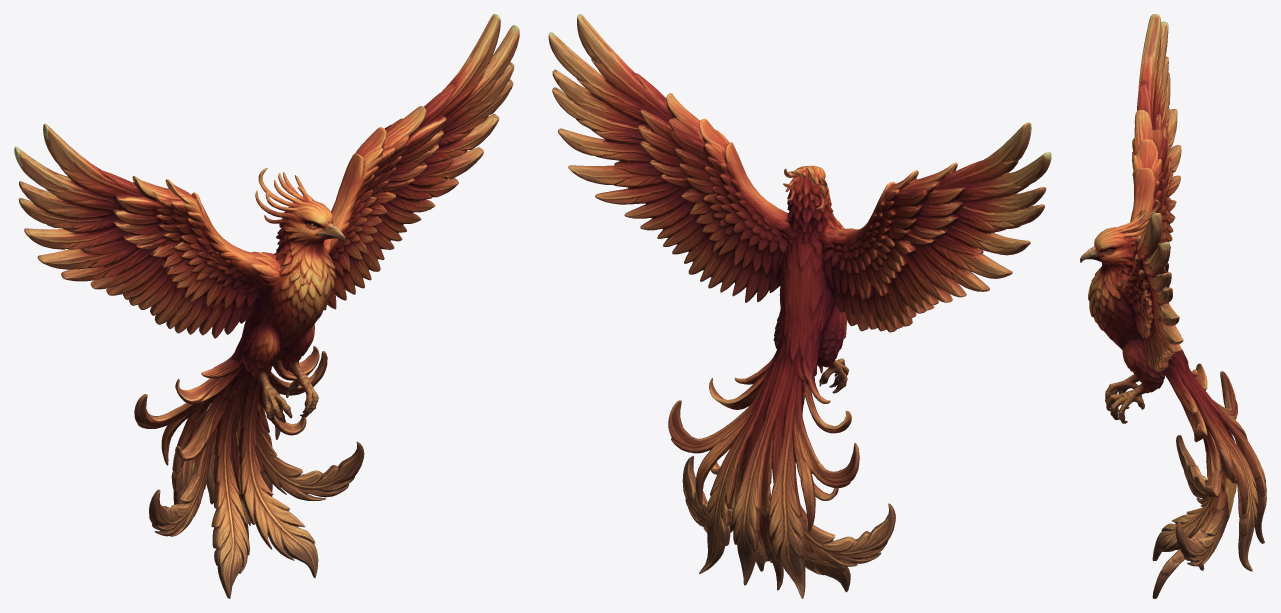
Rendered from phoenix__ember-phoenix.glb.
The picture shows the model from 3 angles, left to right: view 1: azimuth 30°, elevation 25°; view 2: azimuth 150°, elevation 25°; view 3: azimuth 270°, elevation 25°; orthographic projection. The views are drawn at different scales.
Visible parts, largest first — view 1: Mesh_0; view 2: Mesh_0; view 3: Mesh_0.
Boxes of the visible parts, x1=… form: Mesh_0: x1=14, y1=14, x2=519, y2=598; Mesh_0: x1=548, y1=14, x2=1051, y2=598; Mesh_0: x1=1080, y1=14, x2=1266, y2=598.
Size of the model in its own units: 1.9 by 1.87 by 0.6773.
Materials: 1 (1 with a texture image).
